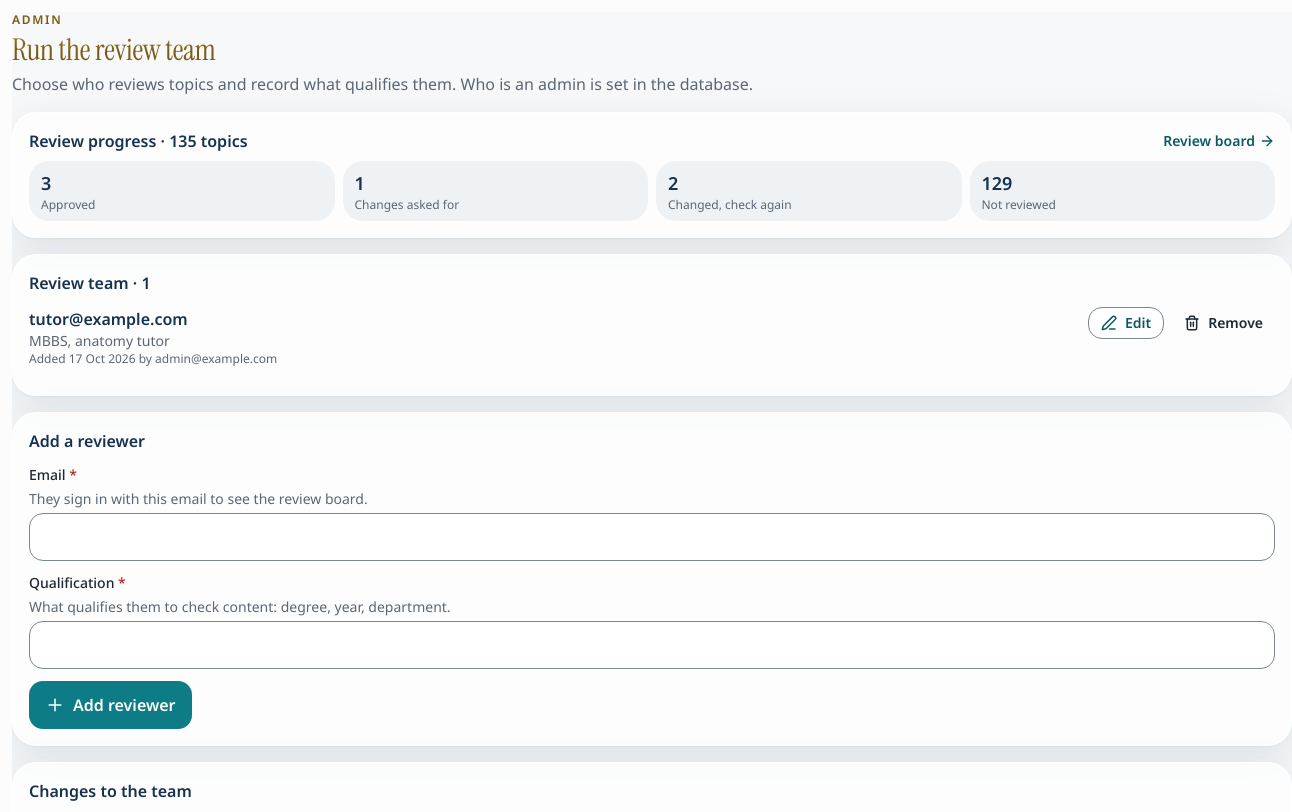
Test: AdminView › asks before removing a reviewer, and shows why a change failed
The image size is (1292, 812).
Click the button "Remove" at (1224, 323), box x1=1172 y1=307 x2=1275 y2=339
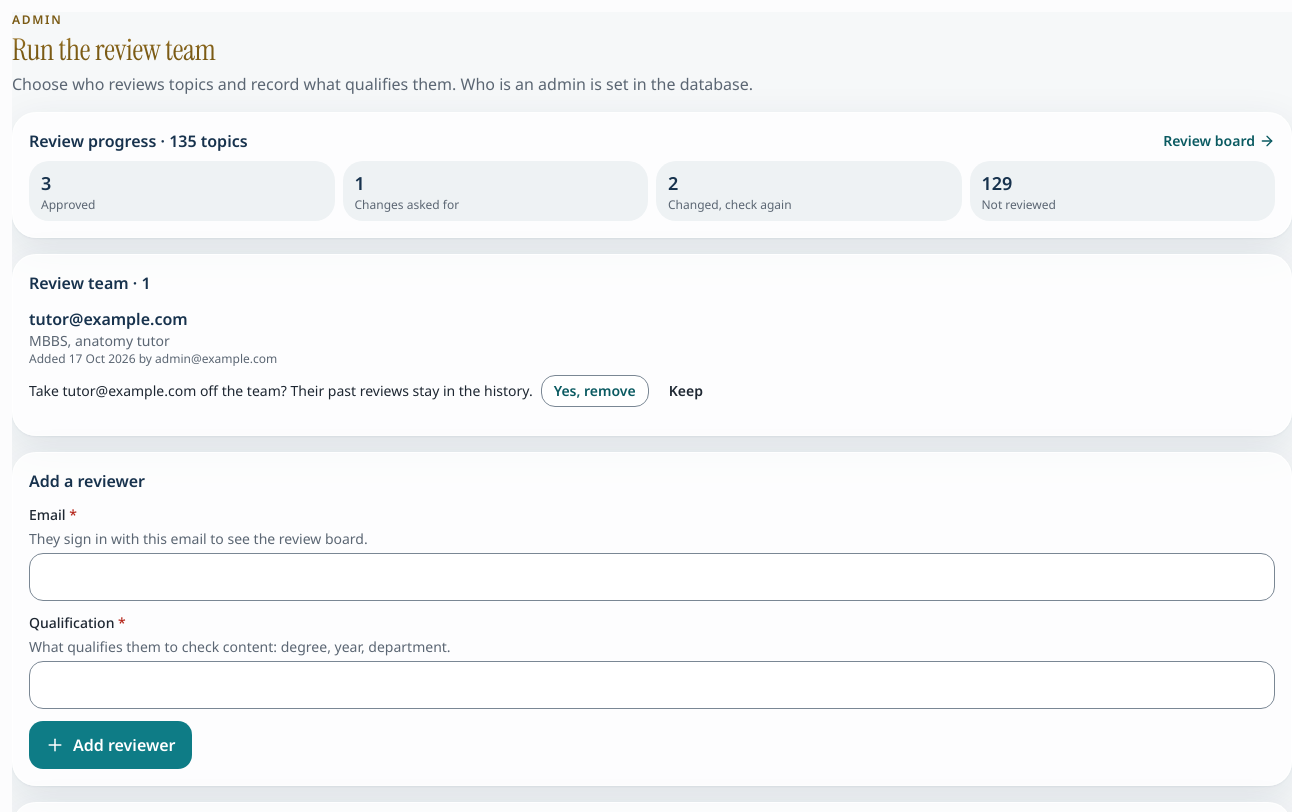
Click the button "Yes, remove" at (595, 391), box x1=541 y1=375 x2=649 y2=407
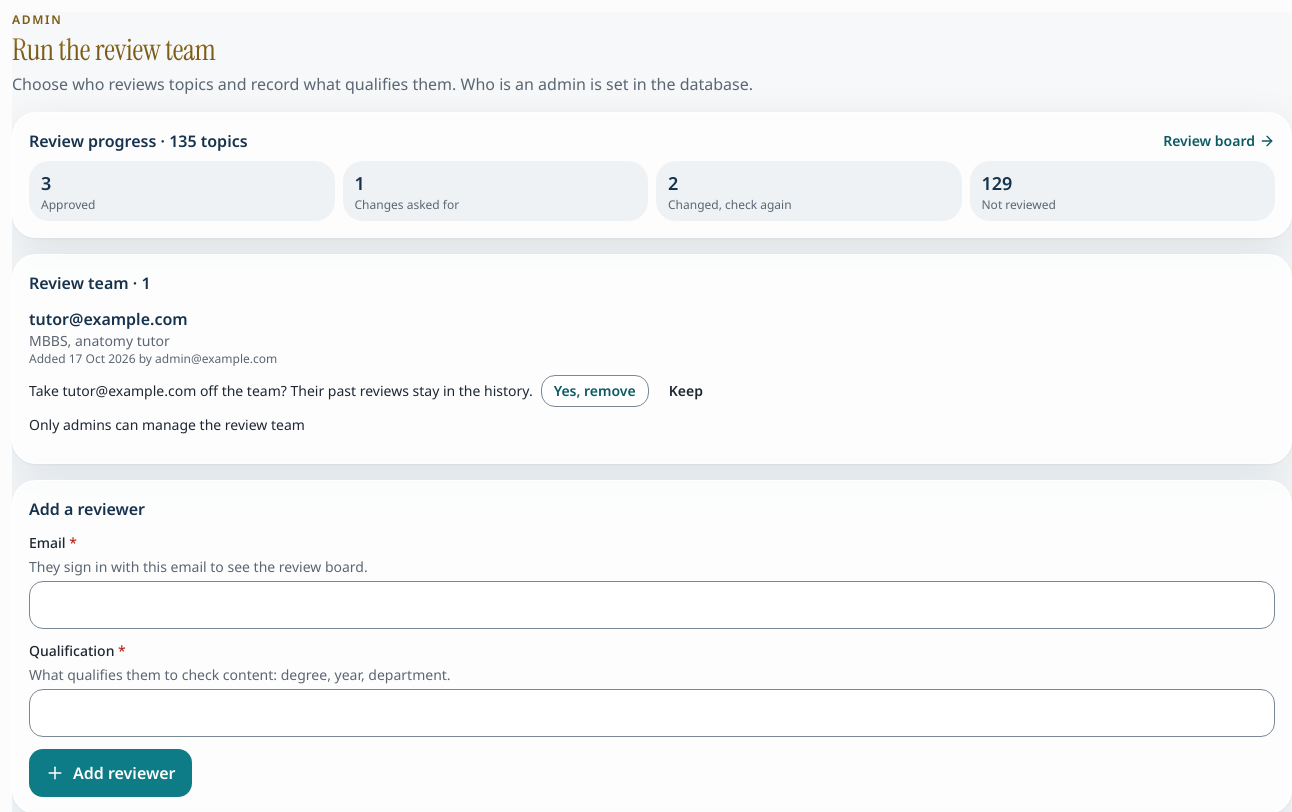
Result: the message reads "Only admins can manage the review team" at x1=29 y1=415 x2=305 y2=434
